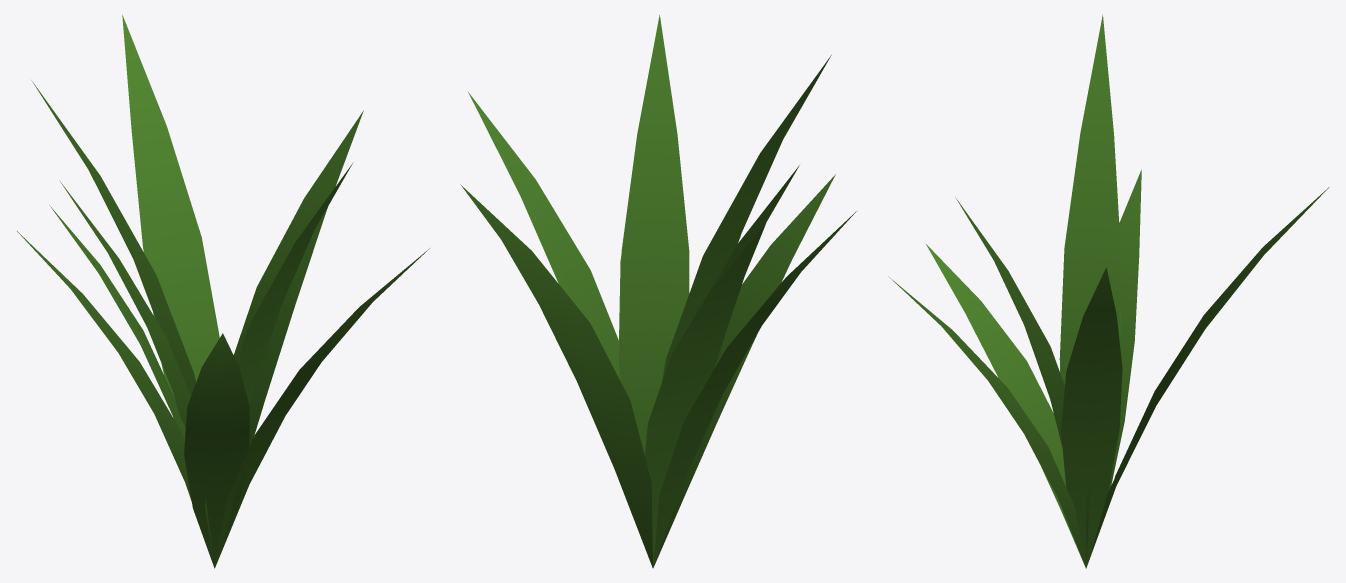
File: tuft-3.gltf
The picture shows the model from 3 angles, left to right: view 1: azimuth 30°, elevation 25°; view 2: azimuth 150°, elevation 25°; view 3: azimuth 270°, elevation 25°; orthographic projection. The views are drawn at different scales.
Bounding box in the file's own units: 0.3068 × 0.4338 × 0.3661.
